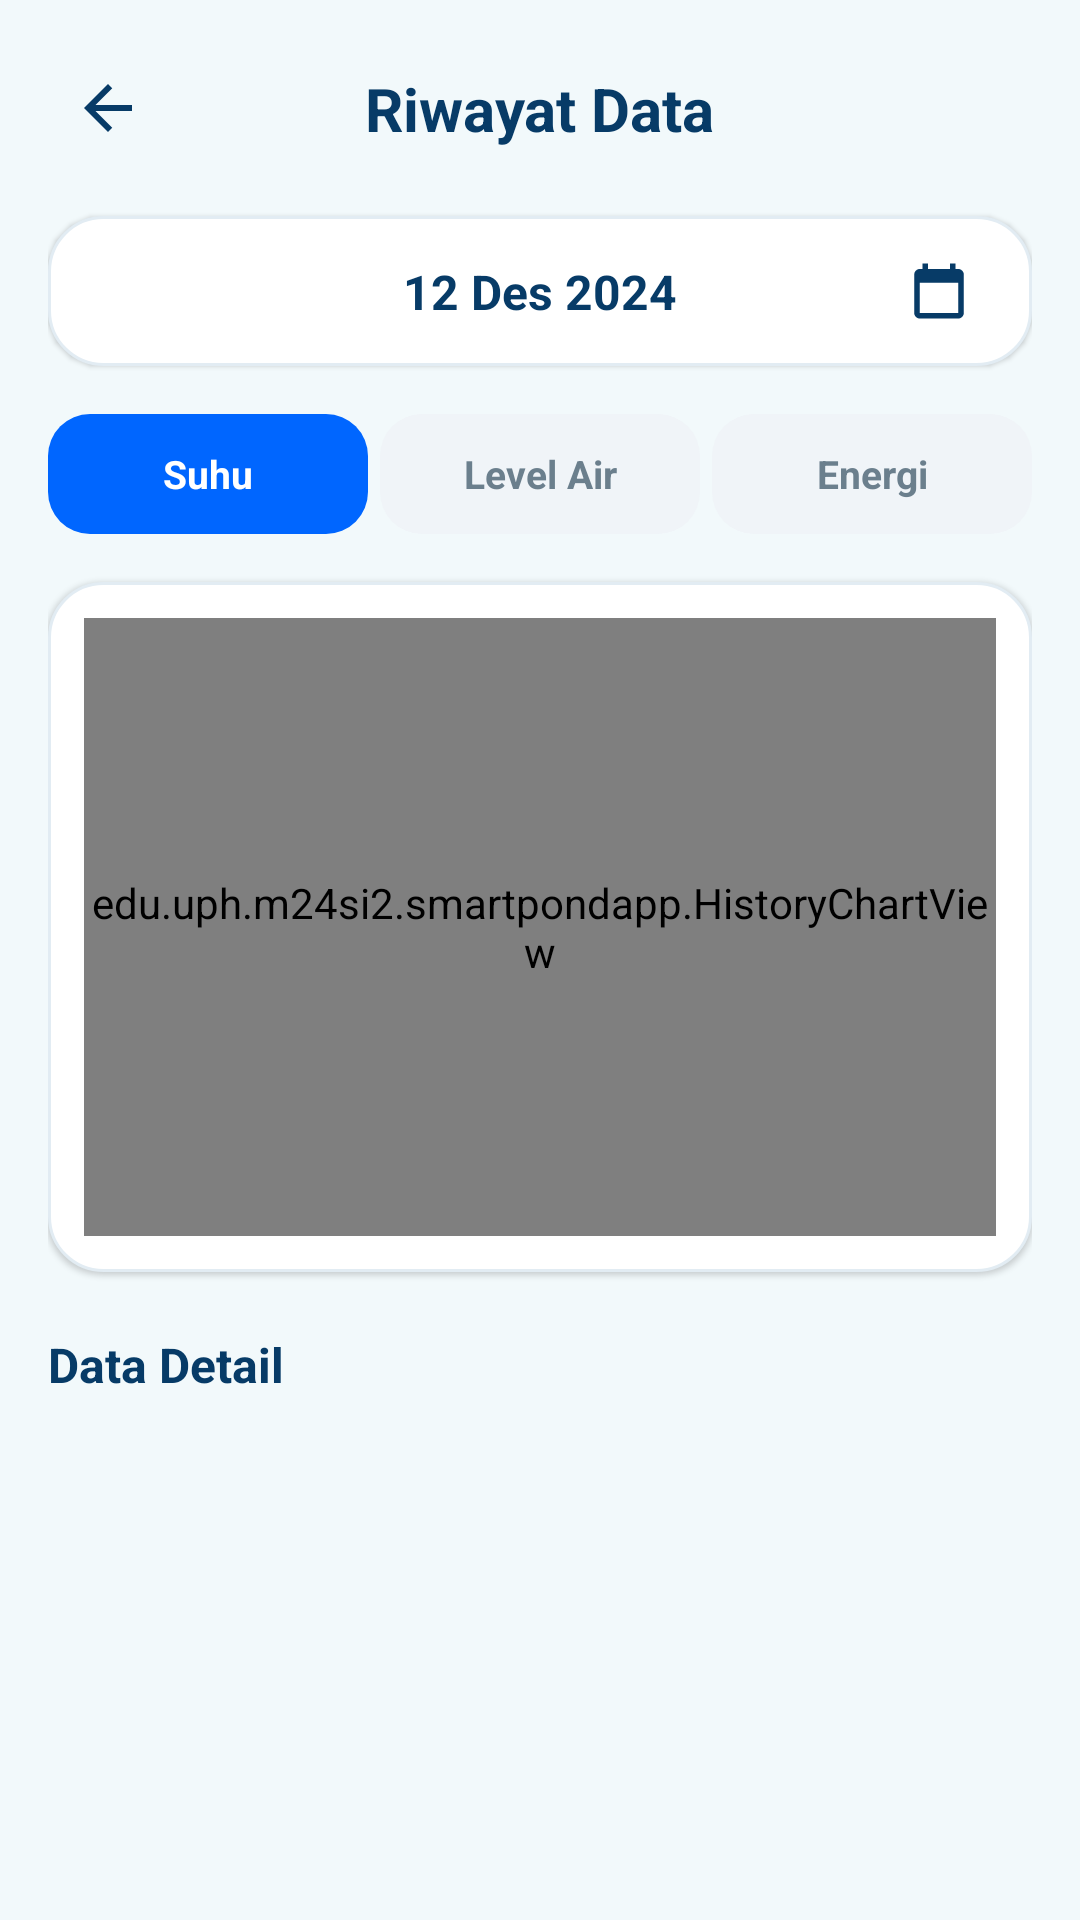

Screen size 1080px×1920px. Icon name, then its center in pixels as point (x, y):
Select Date: point (939, 291)
